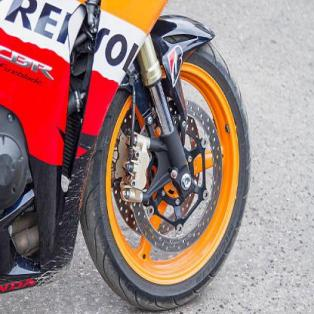Motocicleta: (1, 0, 254, 313)
